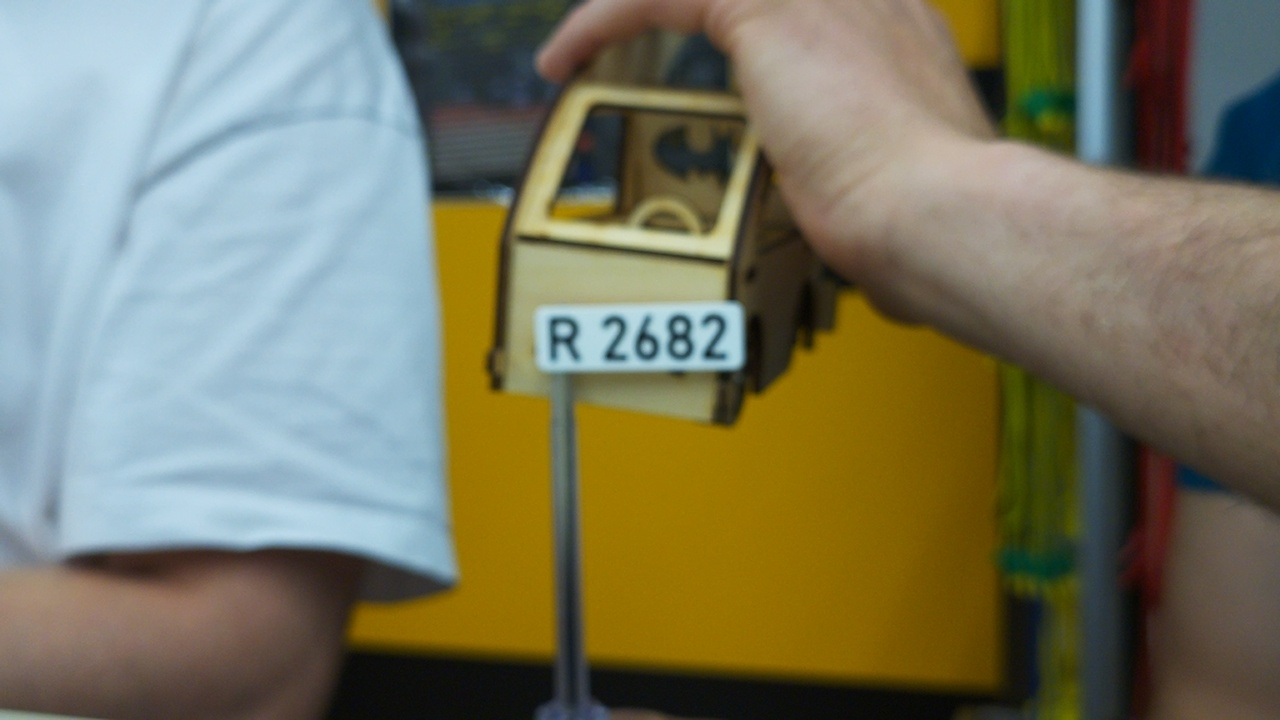license_plate: (530, 298, 748, 373)
